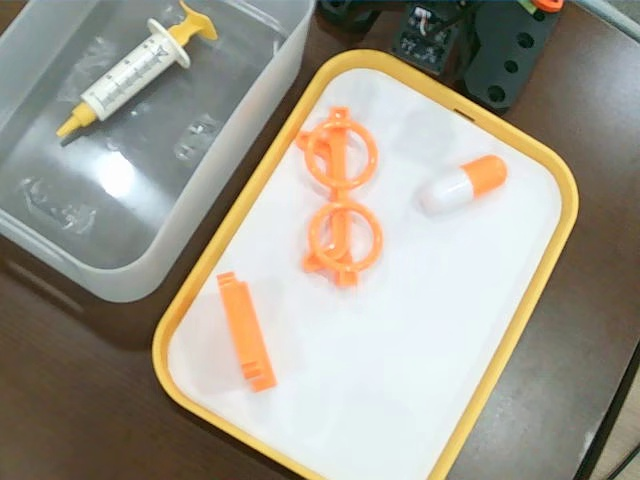pill: (421, 155, 507, 213)
syringe: (55, 0, 222, 139)
